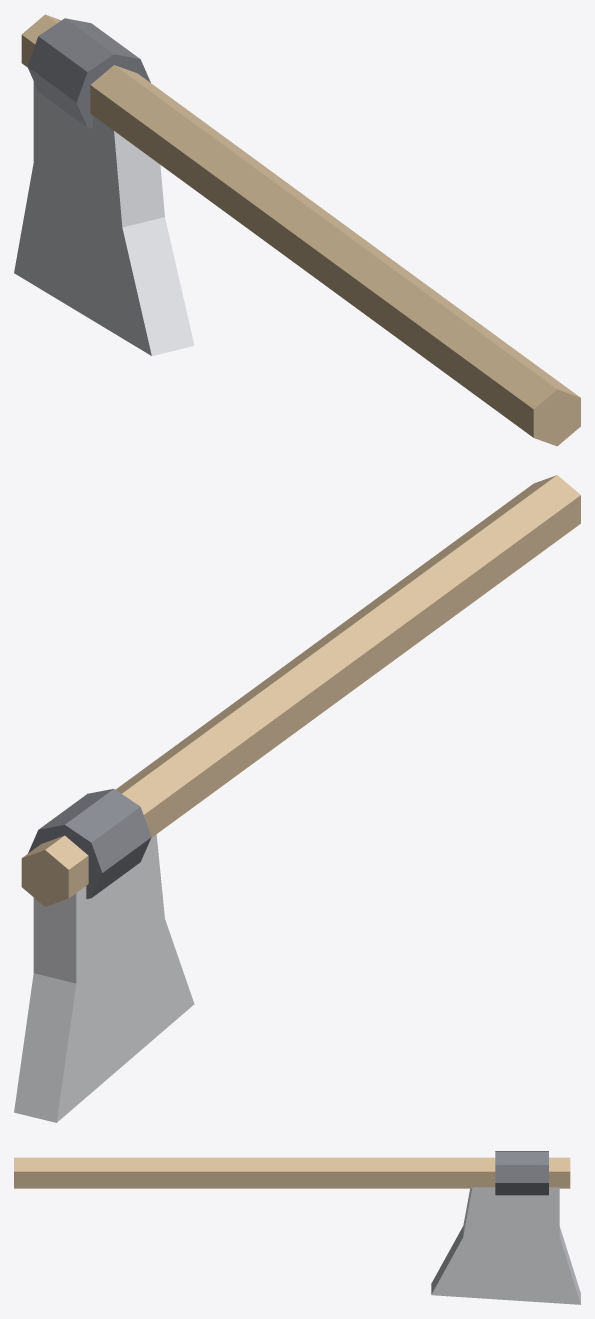
File: iron_axe_held.gltf
3 views of the same model, one above another, from view 1: azimuth 30°, elevation 25°; view 2: azimuth 150°, elevation 25°; view 3: azimuth 270°, elevation 25° (orthographic). The views are drawn at different scales.
Parts seen in each view (by area): view 1: furnace_iron_axe_held; view 2: furnace_iron_axe_held; view 3: furnace_iron_axe_held.
Part boxes in pixels (bbox=[...]): furnace_iron_axe_held: bbox=[14, 14, 580, 446]; furnace_iron_axe_held: bbox=[14, 475, 580, 1122]; furnace_iron_axe_held: bbox=[14, 1151, 580, 1304].
Size of the model in its own units: 0.044 by 0.152 by 0.53.
